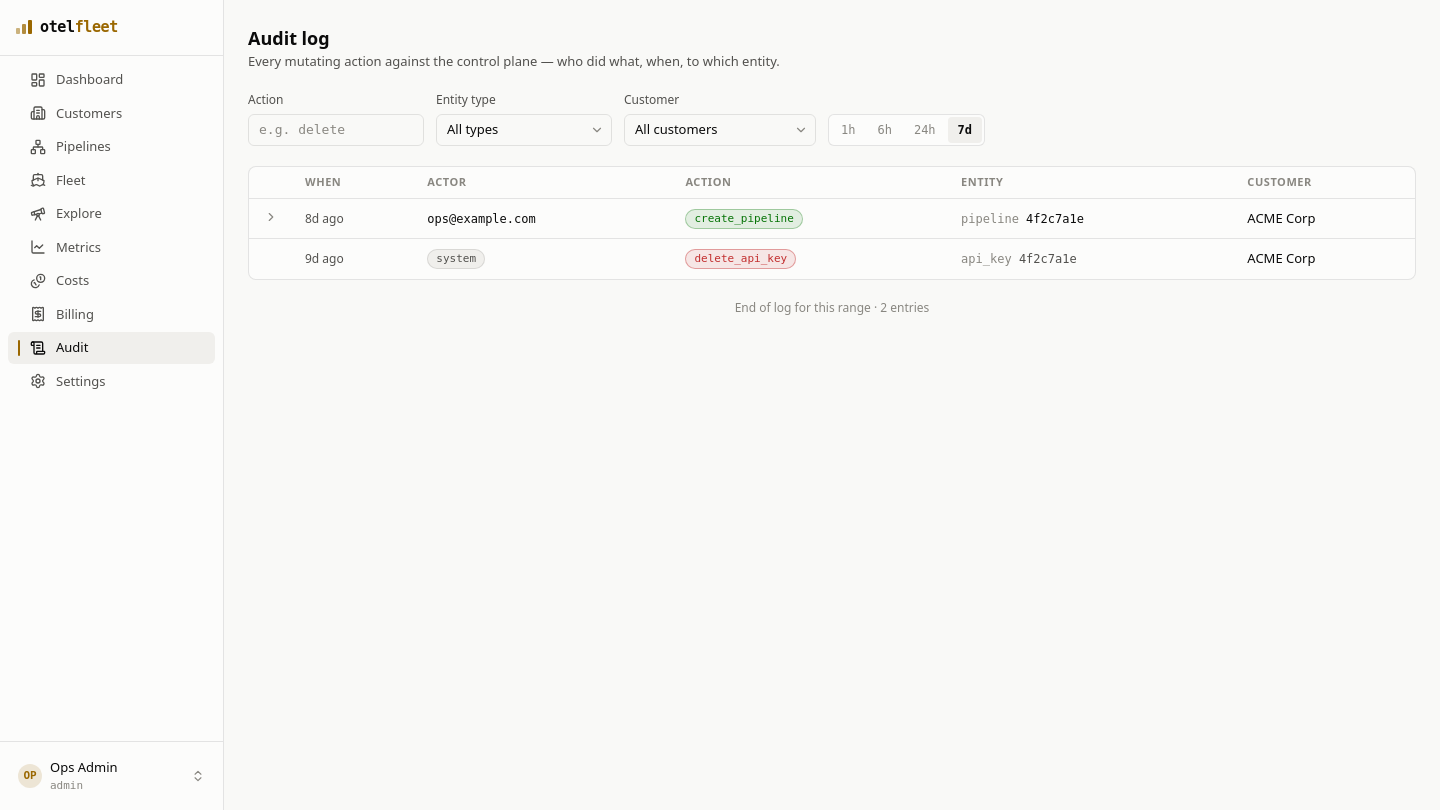
Test: /audit › expands the payload JSON for entries that carry one
Click the button named "Payload of create_pipeline".
click(271, 217)  # box [261,207,281,227]
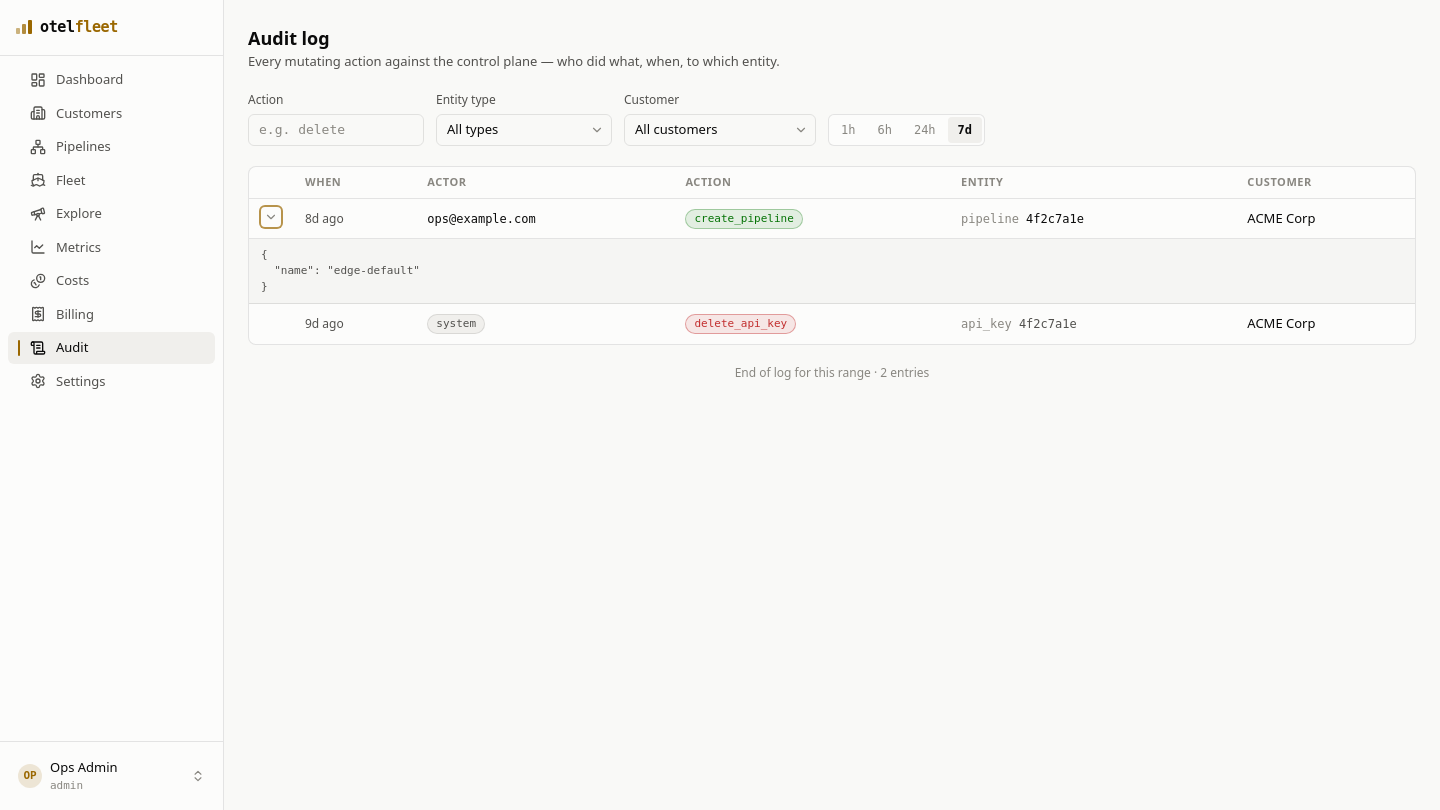
Expected: the text "{ \"name\": \"edge-default\" }" is shown, [261,248,420,293]
